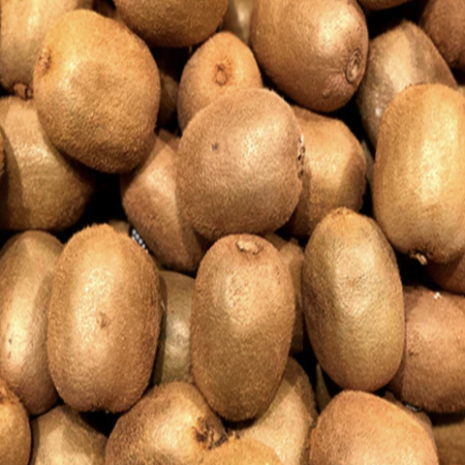kiwi: (172, 82, 333, 247), (22, 5, 166, 186), (286, 199, 426, 385), (44, 219, 168, 426), (187, 225, 300, 432), (362, 75, 465, 256)
